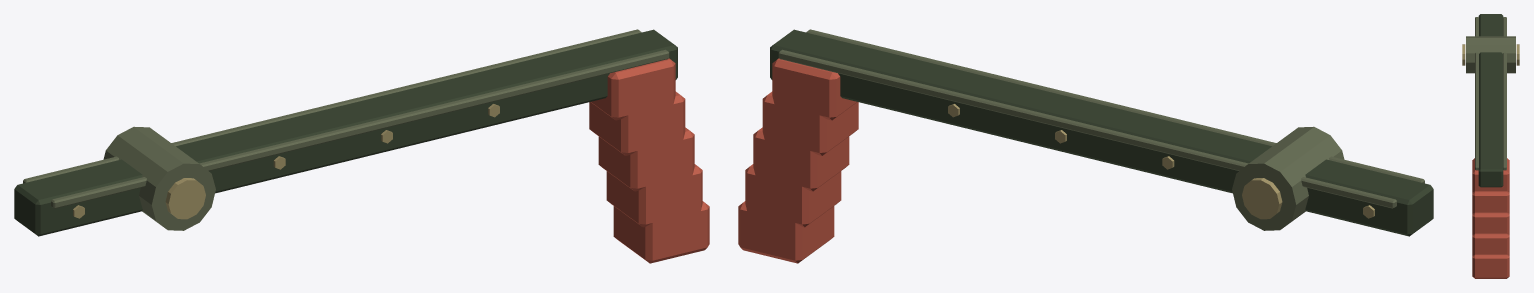
Rendered from pumpjack_arm.obj.
3 renders of one model, left to right at view 1: azimuth 30°, elevation 25°; view 2: azimuth 150°, elevation 25°; view 3: azimuth 270°, elevation 25°, orthographic. The views are drawn at different scales.
Parts seen in each view (by area): view 1: pumpjack_arm; view 2: pumpjack_arm; view 3: pumpjack_arm.
Boxes of the visible parts, left/top/right/bottom form: pumpjack_arm: left=14, top=29, right=709, bottom=263; pumpjack_arm: left=738, top=29, right=1433, bottom=263; pumpjack_arm: left=1462, top=14, right=1519, bottom=278.
Size of the model in its own units: 4.99 by 1.59 by 0.74.
Materials: 1 (1 with a texture image).
